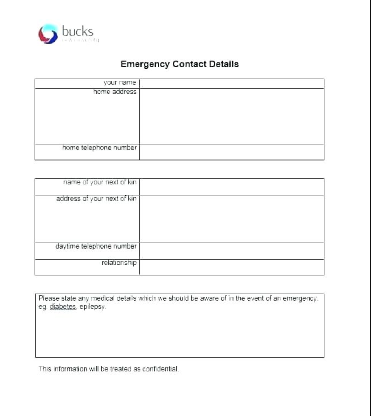textbox: (33, 292, 326, 360), (137, 87, 326, 147), (137, 193, 326, 247), (138, 240, 326, 263), (137, 256, 326, 278), (138, 176, 326, 198), (138, 141, 325, 162), (137, 76, 325, 90)
